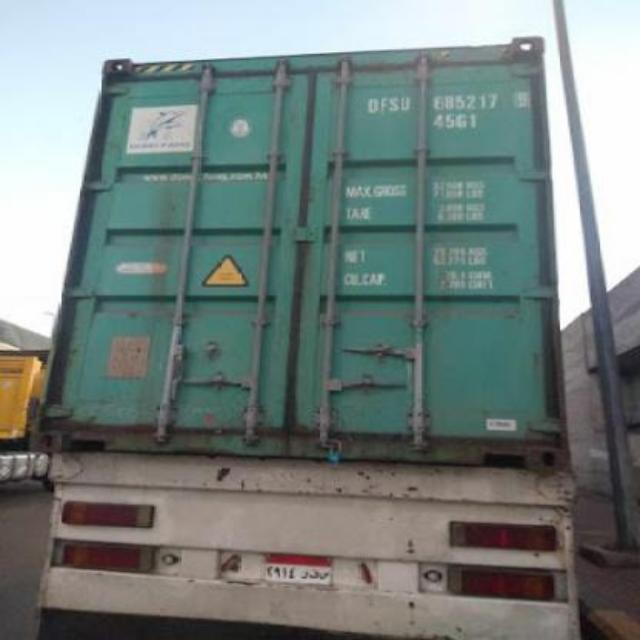1: (478, 94, 486, 110)
2: (464, 93, 478, 111)
5: (456, 93, 468, 111)
6: (432, 94, 442, 112)
7: (488, 90, 500, 112)
8: (444, 94, 456, 110)
9: (514, 90, 530, 112)
F: (378, 96, 388, 114)
O: (366, 97, 379, 113)
S: (388, 94, 398, 116)
U: (398, 94, 412, 116)
